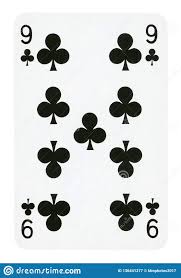nine of clubs: (15, 14, 169, 251)
